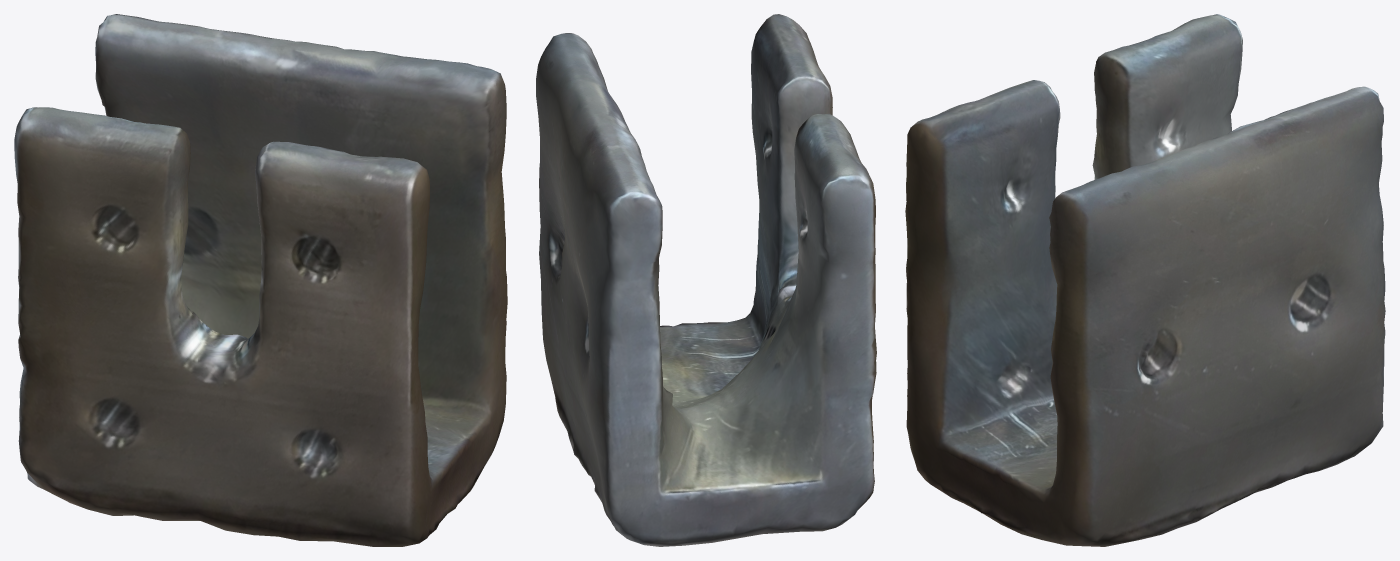
The model's file is u_iron.obj.
The picture shows the model from 3 angles, left to right: view 1: azimuth 30°, elevation 25°; view 2: azimuth 150°, elevation 25°; view 3: azimuth 270°, elevation 25°; orthographic projection. The views are drawn at different scales.
Parts seen in each view (by area): view 1: mesh_0; view 2: mesh_0; view 3: mesh_0.
Part boxes in pixels (left/top/right/bottom): mesh_0: left=14, top=14, right=507, bottom=546; mesh_0: left=536, top=14, right=876, bottom=546; mesh_0: left=905, top=14, right=1385, bottom=546.
Size of the model in its own units: 0.0593 by 0.0536 by 0.0611.
1 material, 1 textured.
